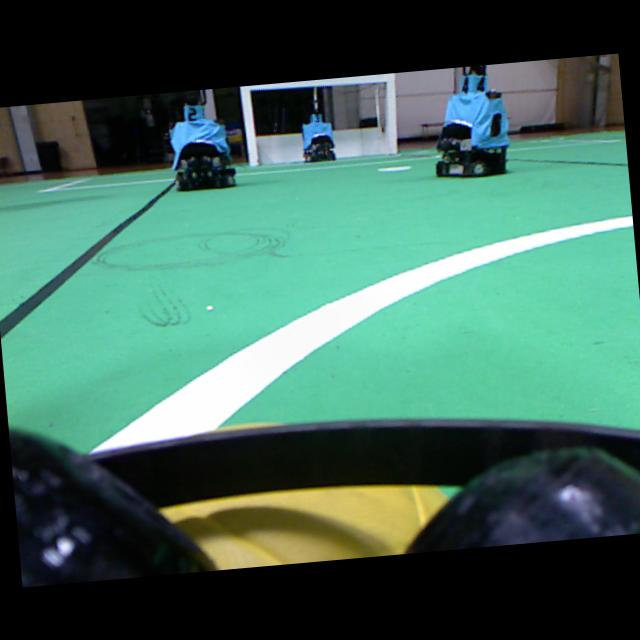ball: (156, 423, 451, 570)
goal: (239, 85, 257, 165), (385, 73, 397, 153)
